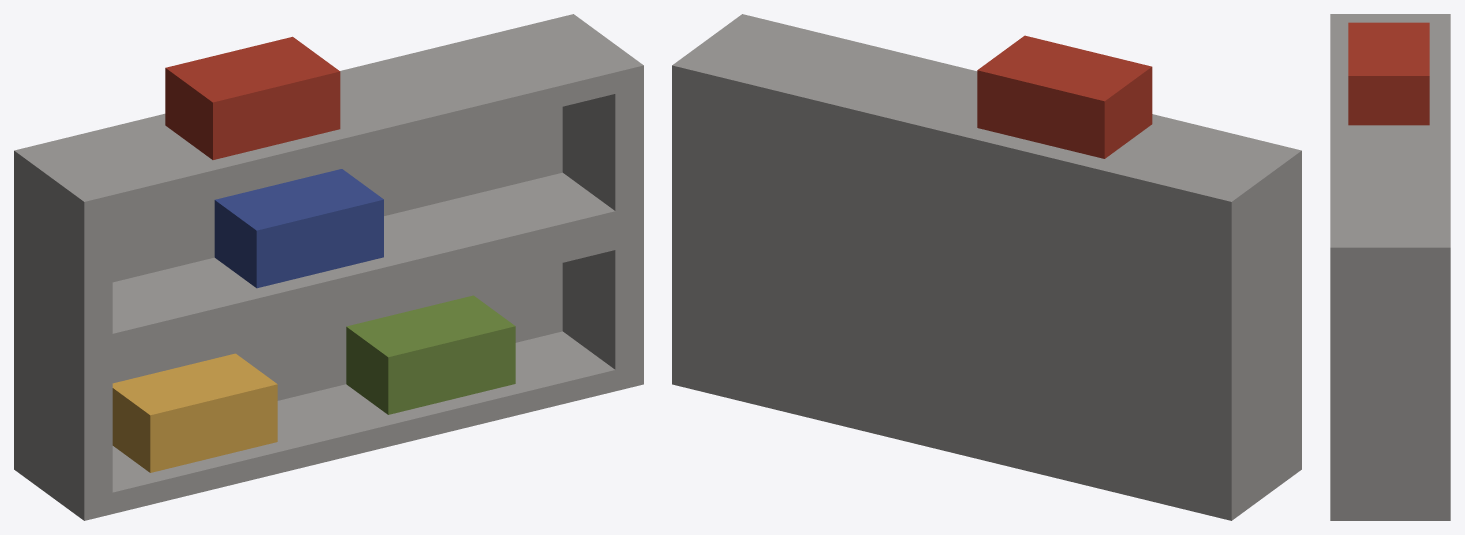
The model's file is SM_Prop_ShopInterior_Shelf_03.fbx.
The picture shows the model from 3 angles, left to right: view 1: azimuth 30°, elevation 25°; view 2: azimuth 150°, elevation 25°; view 3: azimuth 270°, elevation 25°; orthographic projection. The views are drawn at different scales.
Parts seen in each view (by area): view 1: SM_Prop_ShopInterior_Shelf_03; view 2: SM_Prop_ShopInterior_Shelf_03; view 3: SM_Prop_ShopInterior_Shelf_03.
Boxes of the visible parts, left/top/right/bottom form: SM_Prop_ShopInterior_Shelf_03: left=14, top=14, right=643, bottom=520; SM_Prop_ShopInterior_Shelf_03: left=672, top=14, right=1301, bottom=520; SM_Prop_ShopInterior_Shelf_03: left=1330, top=14, right=1450, bottom=520.
Bounding box in the file's own units: 122 × 78.42 × 26.51.
